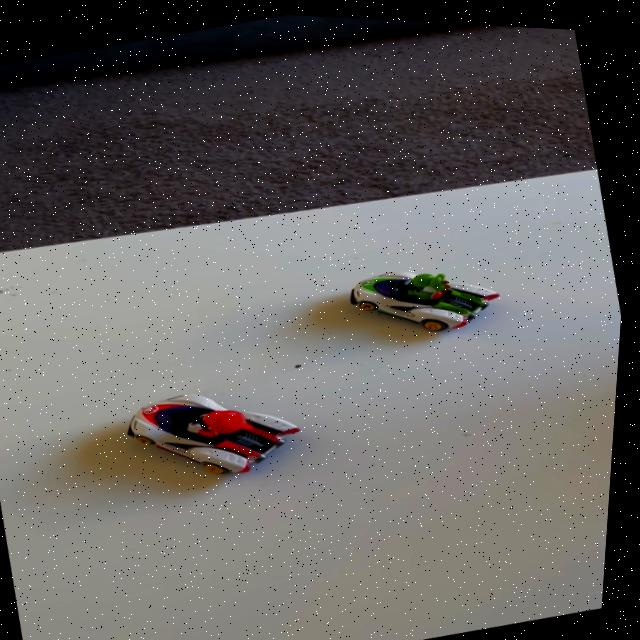mario: (102, 357, 337, 514)
yoshi: (335, 233, 524, 355)
